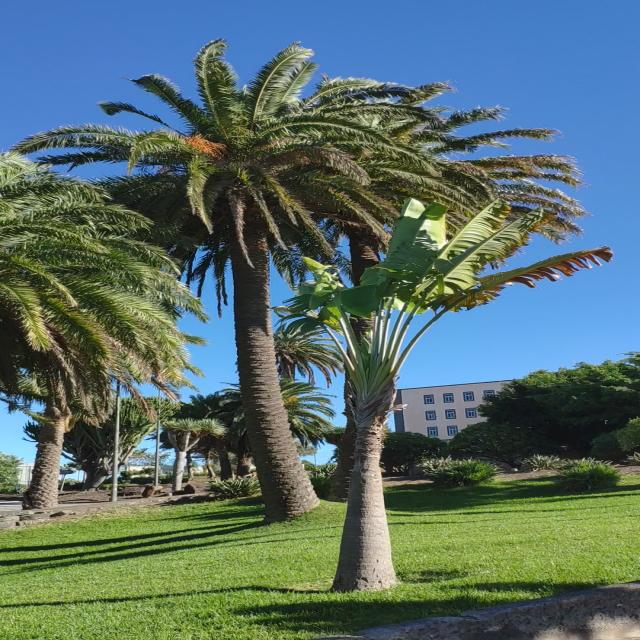Palm-Trees: (82, 38, 414, 522)
